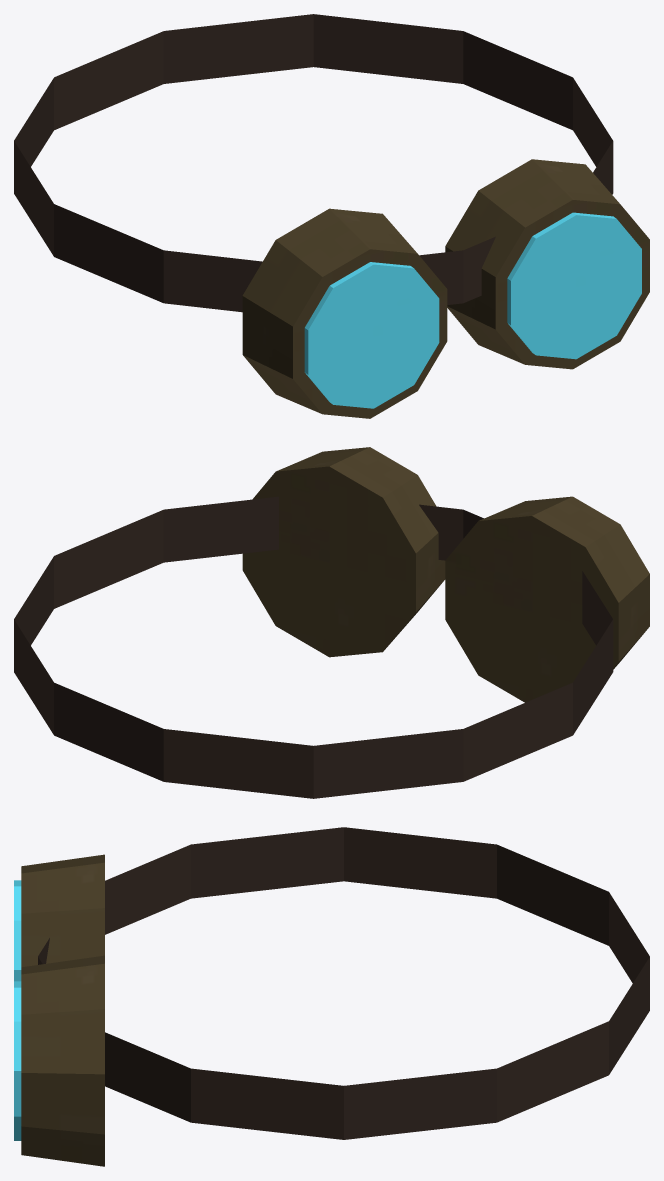
The model's file is acc_goggles.glb.
3 views of the same model, one above another, from view 1: azimuth 30°, elevation 25°; view 2: azimuth 150°, elevation 25°; view 3: azimuth 270°, elevation 25° (orthographic). The views are drawn at different scales.
Parts seen in each view (by area): view 1: acc_goggles; view 2: acc_goggles; view 3: acc_goggles.
Part boxes in pixels (box(x1,y1,x2,y2)): acc_goggles: box(14, 14, 649, 418); acc_goggles: box(14, 447, 649, 798); acc_goggles: box(14, 827, 649, 1166).
Bounding box in the file's own units: 0.256 × 0.09 × 0.266.
Materials: 3 (3 with a texture image).
